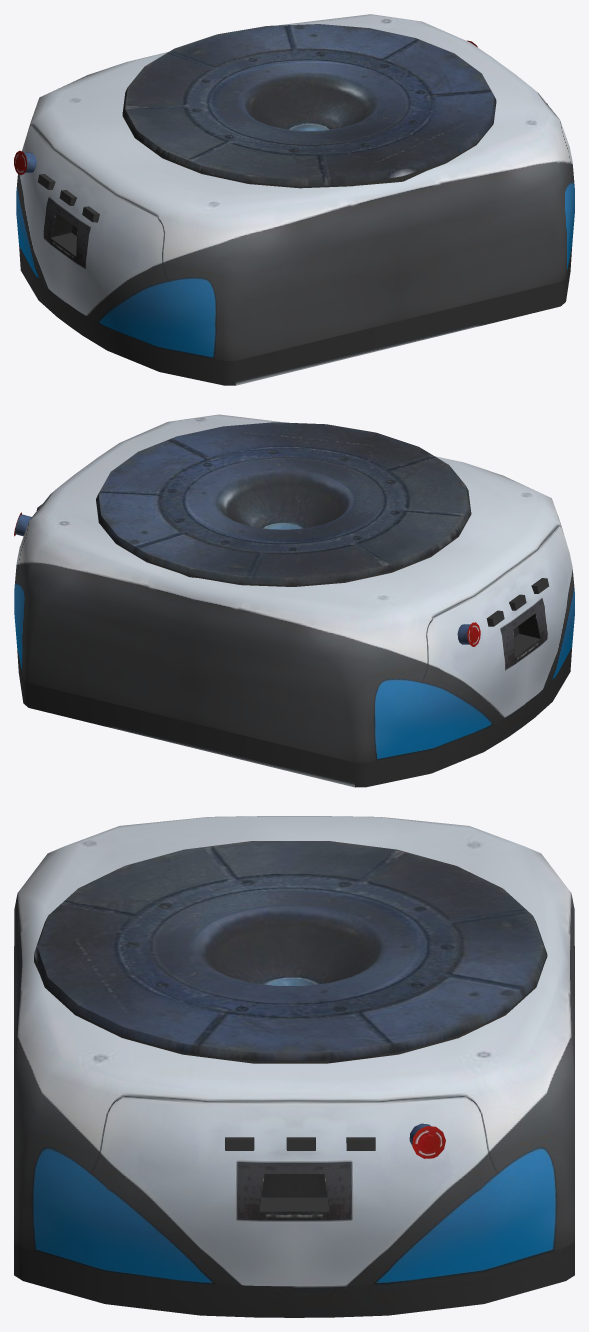
Rendered from AGV.gltf.
3 renders of one model, top to bottom at view 1: azimuth 30°, elevation 25°; view 2: azimuth 150°, elevation 25°; view 3: azimuth 270°, elevation 25°, orthographic. The views are drawn at different scales.
Parts seen in each view (by area): view 1: AGV-1; view 2: AGV-1; view 3: AGV-1.
Boxes of the visible parts, <box> form: AGV-1: <box>14,14,574,385</box>; AGV-1: <box>14,414,574,787</box>; AGV-1: <box>14,816,574,1317</box>.
Bounding box in the file's own units: 0.8117 × 0.2787 × 0.6204.
Materials: 2 (2 with a texture image).
